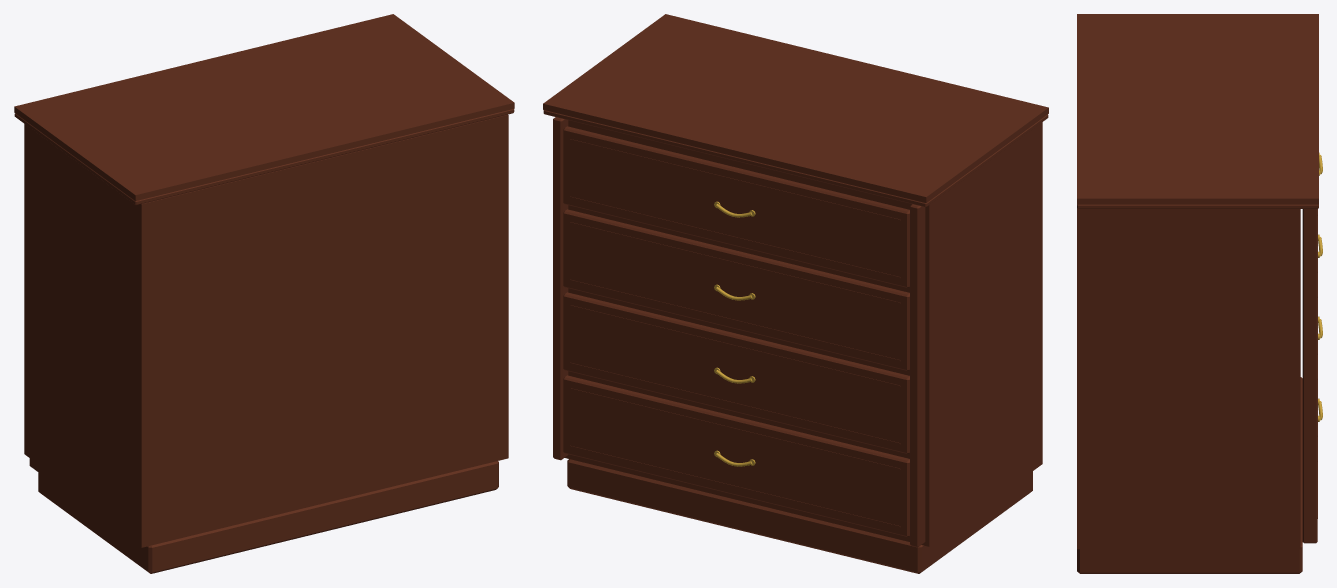
The model's file is parametric-chest-2nd.glb.
The picture shows the model from 3 angles, left to right: view 1: azimuth 30°, elevation 25°; view 2: azimuth 150°, elevation 25°; view 3: azimuth 270°, elevation 25°; orthographic projection.
Parts seen in each view (by area): view 1: parametric-chest-2nd; view 2: parametric-chest-2nd; view 3: parametric-chest-2nd.
Boxes of the visible parts, <box> form: parametric-chest-2nd: <box>14,14,514,573</box>; parametric-chest-2nd: <box>543,14,1048,573</box>; parametric-chest-2nd: <box>1077,14,1322,573</box>.
Bounding box in the file's own units: 0.93 × 0.9 × 0.5233.
